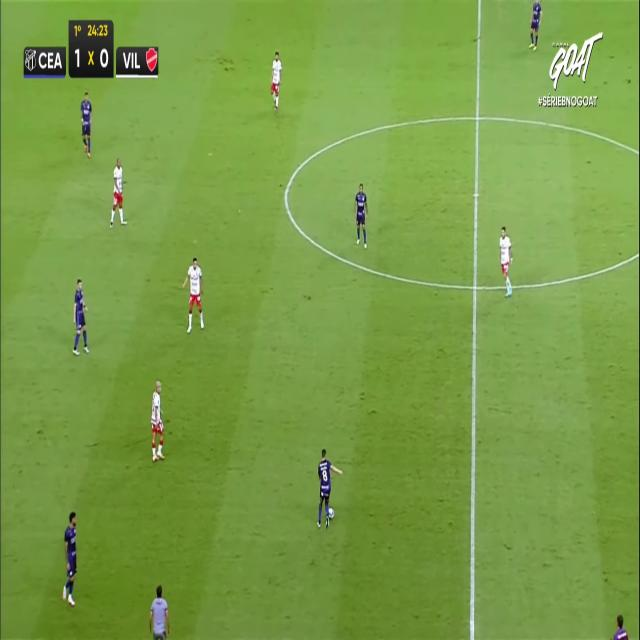ball: (328, 506, 336, 523)
player: (316, 448, 341, 528), (182, 257, 204, 333), (62, 512, 78, 606), (72, 278, 89, 354), (110, 157, 128, 226), (150, 380, 164, 461), (499, 225, 513, 295), (354, 182, 367, 247), (81, 90, 93, 157), (270, 50, 282, 109), (529, 0, 542, 50)
